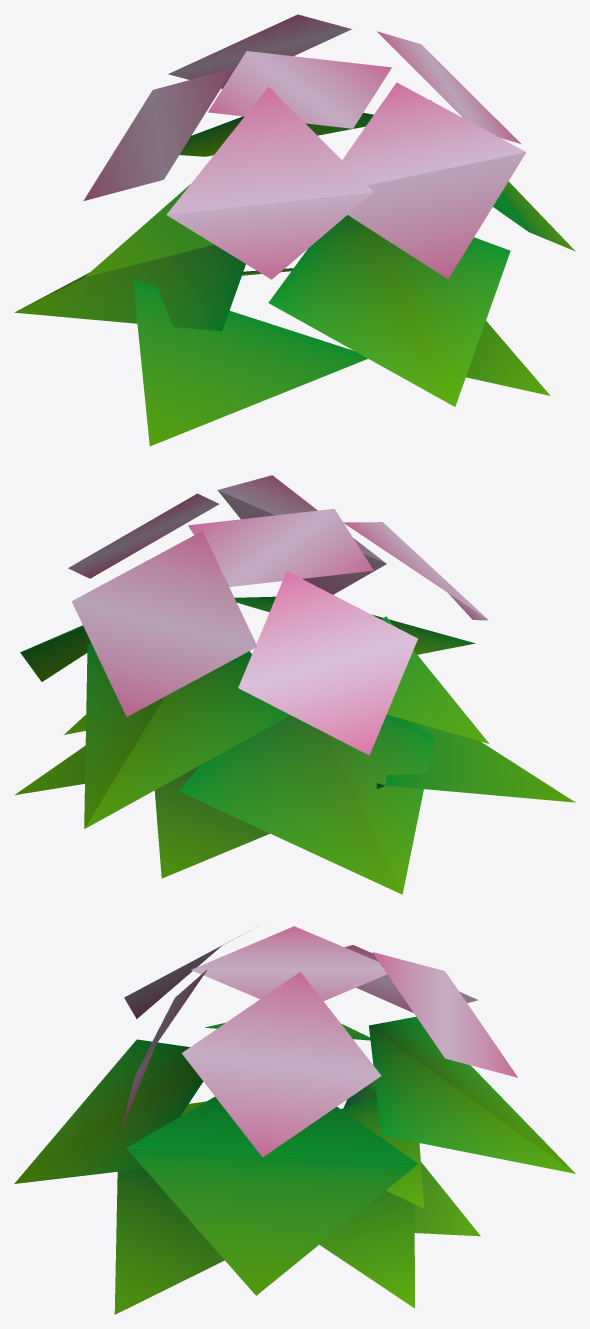
The model's file is flowerpinkl.dae.
3 views of the same model, one above another, from view 1: azimuth 30°, elevation 25°; view 2: azimuth 150°, elevation 25°; view 3: azimuth 270°, elevation 25° (orthographic). The views are drawn at different scales.
Visible parts, largest first — view 1: m0; view 2: m0; view 3: m0.
Boxes of the visible parts, x1,y1,x2,y2 form: m0: (14,14,575,446); m0: (14,475,575,894); m0: (14,926,575,1314).
Bounding box in the file's own units: 81.95 × 51.51 × 85.8.
